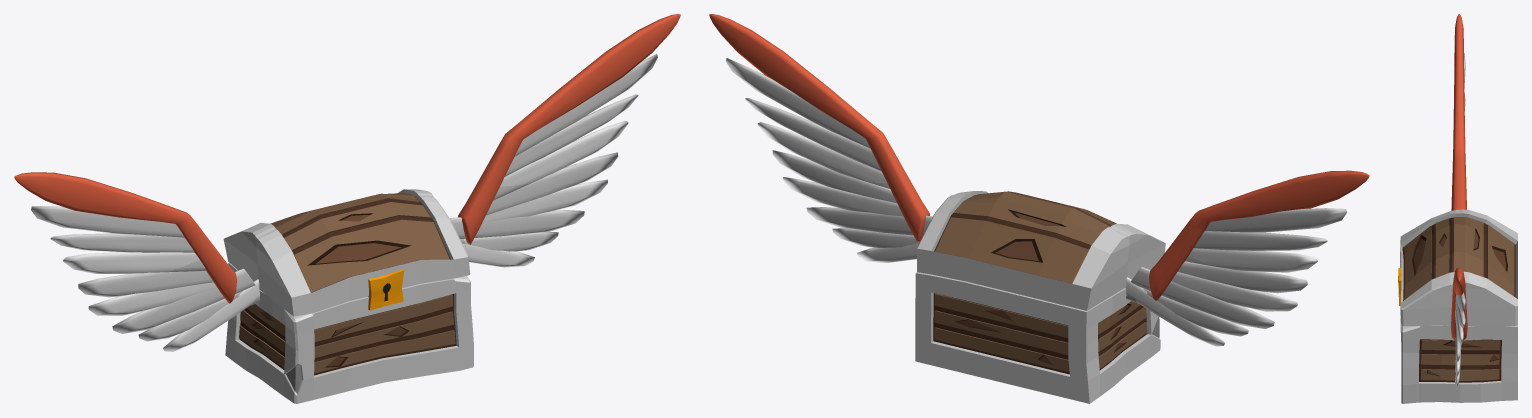
The model's file is Chest.fbx.
The picture shows the model from 3 angles, left to right: view 1: azimuth 30°, elevation 25°; view 2: azimuth 150°, elevation 25°; view 3: azimuth 270°, elevation 25°; orthographic projection. The views are drawn at different scales.
Parts seen in each view (by area): view 1: Chest, wing_2, wing; view 2: Chest, wing_2, wing; view 3: Chest, wing_2, wing.
Boxes of the visible parts, left/top/right/bottom form: Chest: left=223, top=189, right=473, bottom=403; wing_2: left=14, top=172, right=260, bottom=351; wing: left=450, top=14, right=680, bottom=267; Chest: left=915, top=191, right=1165, bottom=403; wing_2: left=1125, top=170, right=1369, bottom=346; wing: left=709, top=14, right=932, bottom=262; Chest: left=1398, top=209, right=1517, bottom=403; wing_2: left=1451, top=14, right=1466, bottom=210; wing: left=1451, top=268, right=1467, bottom=391.
Bounding box in the file's own units: 758 × 292 × 144.
